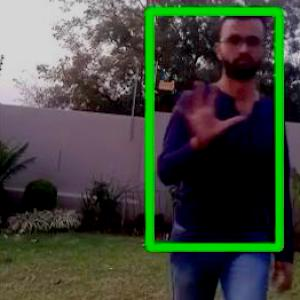follow_hand: (170, 72, 250, 149)
